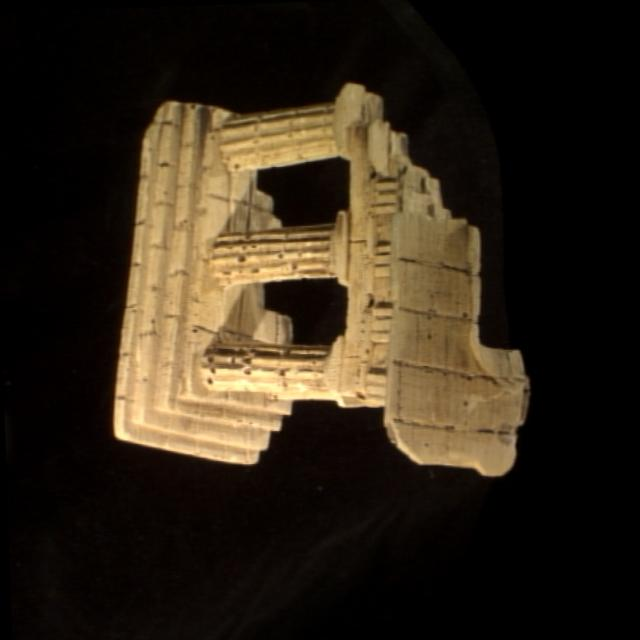Instance-Segmentation: (113, 83, 526, 472)
